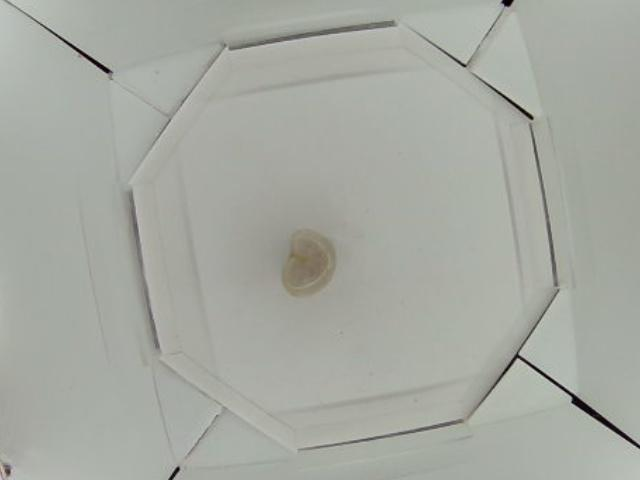Pebble: (285, 230, 334, 294)
